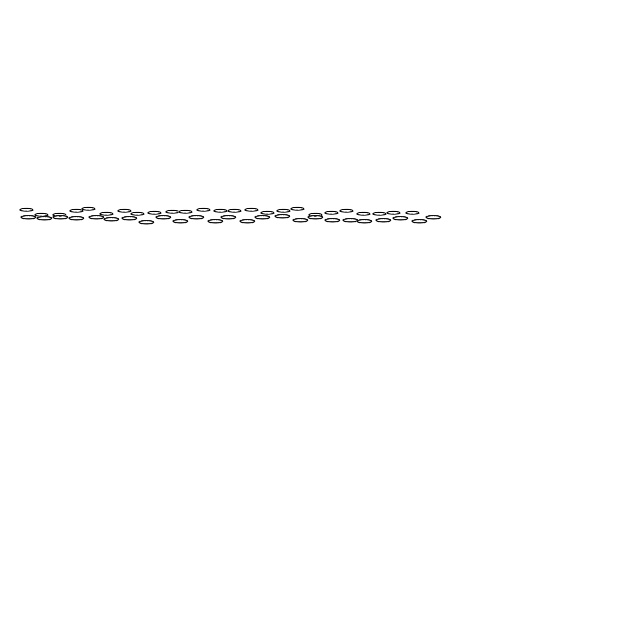chain: (102, 216, 122, 224), (154, 214, 174, 222), (206, 218, 226, 226), (238, 218, 258, 226), (306, 214, 326, 222), (410, 218, 430, 226), (424, 214, 444, 222), (20, 214, 38, 222), (52, 214, 70, 222), (88, 214, 106, 222), (172, 218, 190, 226), (188, 214, 206, 222), (220, 214, 238, 222), (254, 214, 272, 222), (356, 218, 374, 226), (120, 216, 140, 222), (374, 218, 394, 224), (18, 207, 36, 213), (68, 208, 86, 214), (80, 206, 98, 212), (98, 211, 116, 217), (116, 208, 134, 214), (146, 210, 164, 216), (164, 209, 182, 215), (212, 208, 230, 214), (226, 208, 244, 214), (338, 208, 356, 214), (404, 210, 422, 216), (36, 216, 54, 222), (68, 216, 86, 222), (138, 220, 156, 226), (274, 214, 292, 220), (292, 218, 310, 224), (324, 218, 342, 224), (342, 218, 360, 224), (392, 216, 410, 222), (34, 212, 50, 218), (52, 212, 68, 218), (130, 211, 146, 217), (178, 209, 194, 215), (196, 207, 212, 213), (244, 207, 260, 213), (260, 210, 276, 216), (276, 208, 292, 214), (290, 206, 306, 212), (308, 212, 324, 218), (324, 210, 340, 216), (356, 211, 372, 217), (372, 211, 388, 217), (386, 210, 402, 216)
